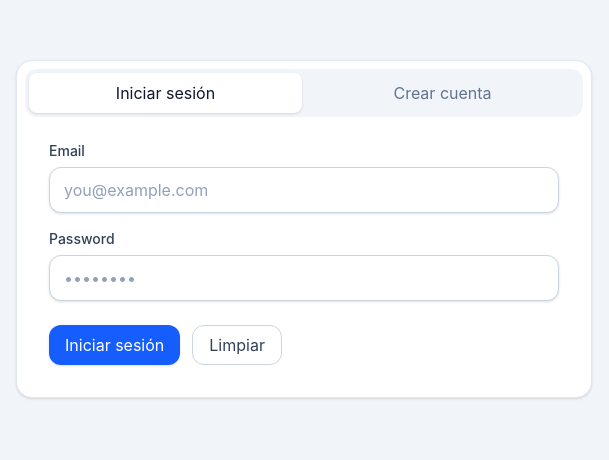
Scenario: auth and page flows › switches auth page between sign in and sign up modes
Check: the 1st button "Iniciar sesión" is shown, box [29,73,302,113]
Step 1. Click the button "Crear cuenta" → (442, 93), box [306,73,579,113]
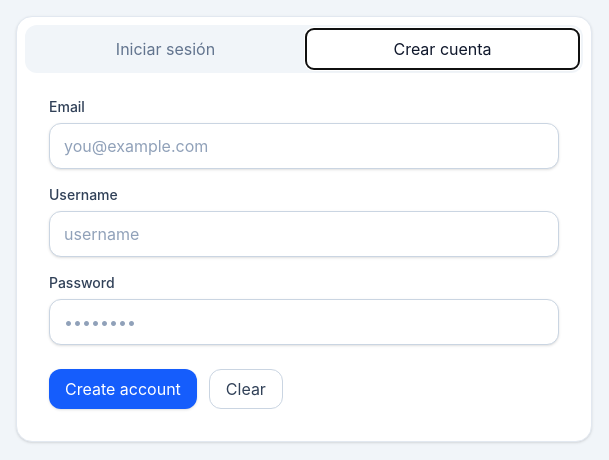
Check: the button "Create account" is shown, box [49,369,197,409]
